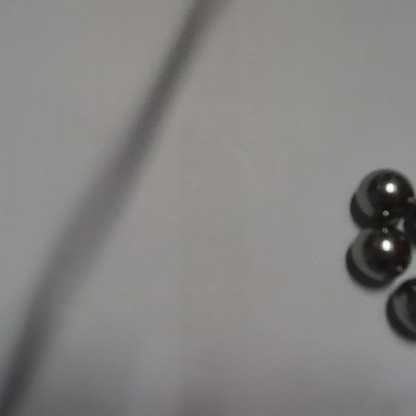ironball: (354, 227, 410, 279), (358, 168, 411, 218), (394, 276, 414, 333)
